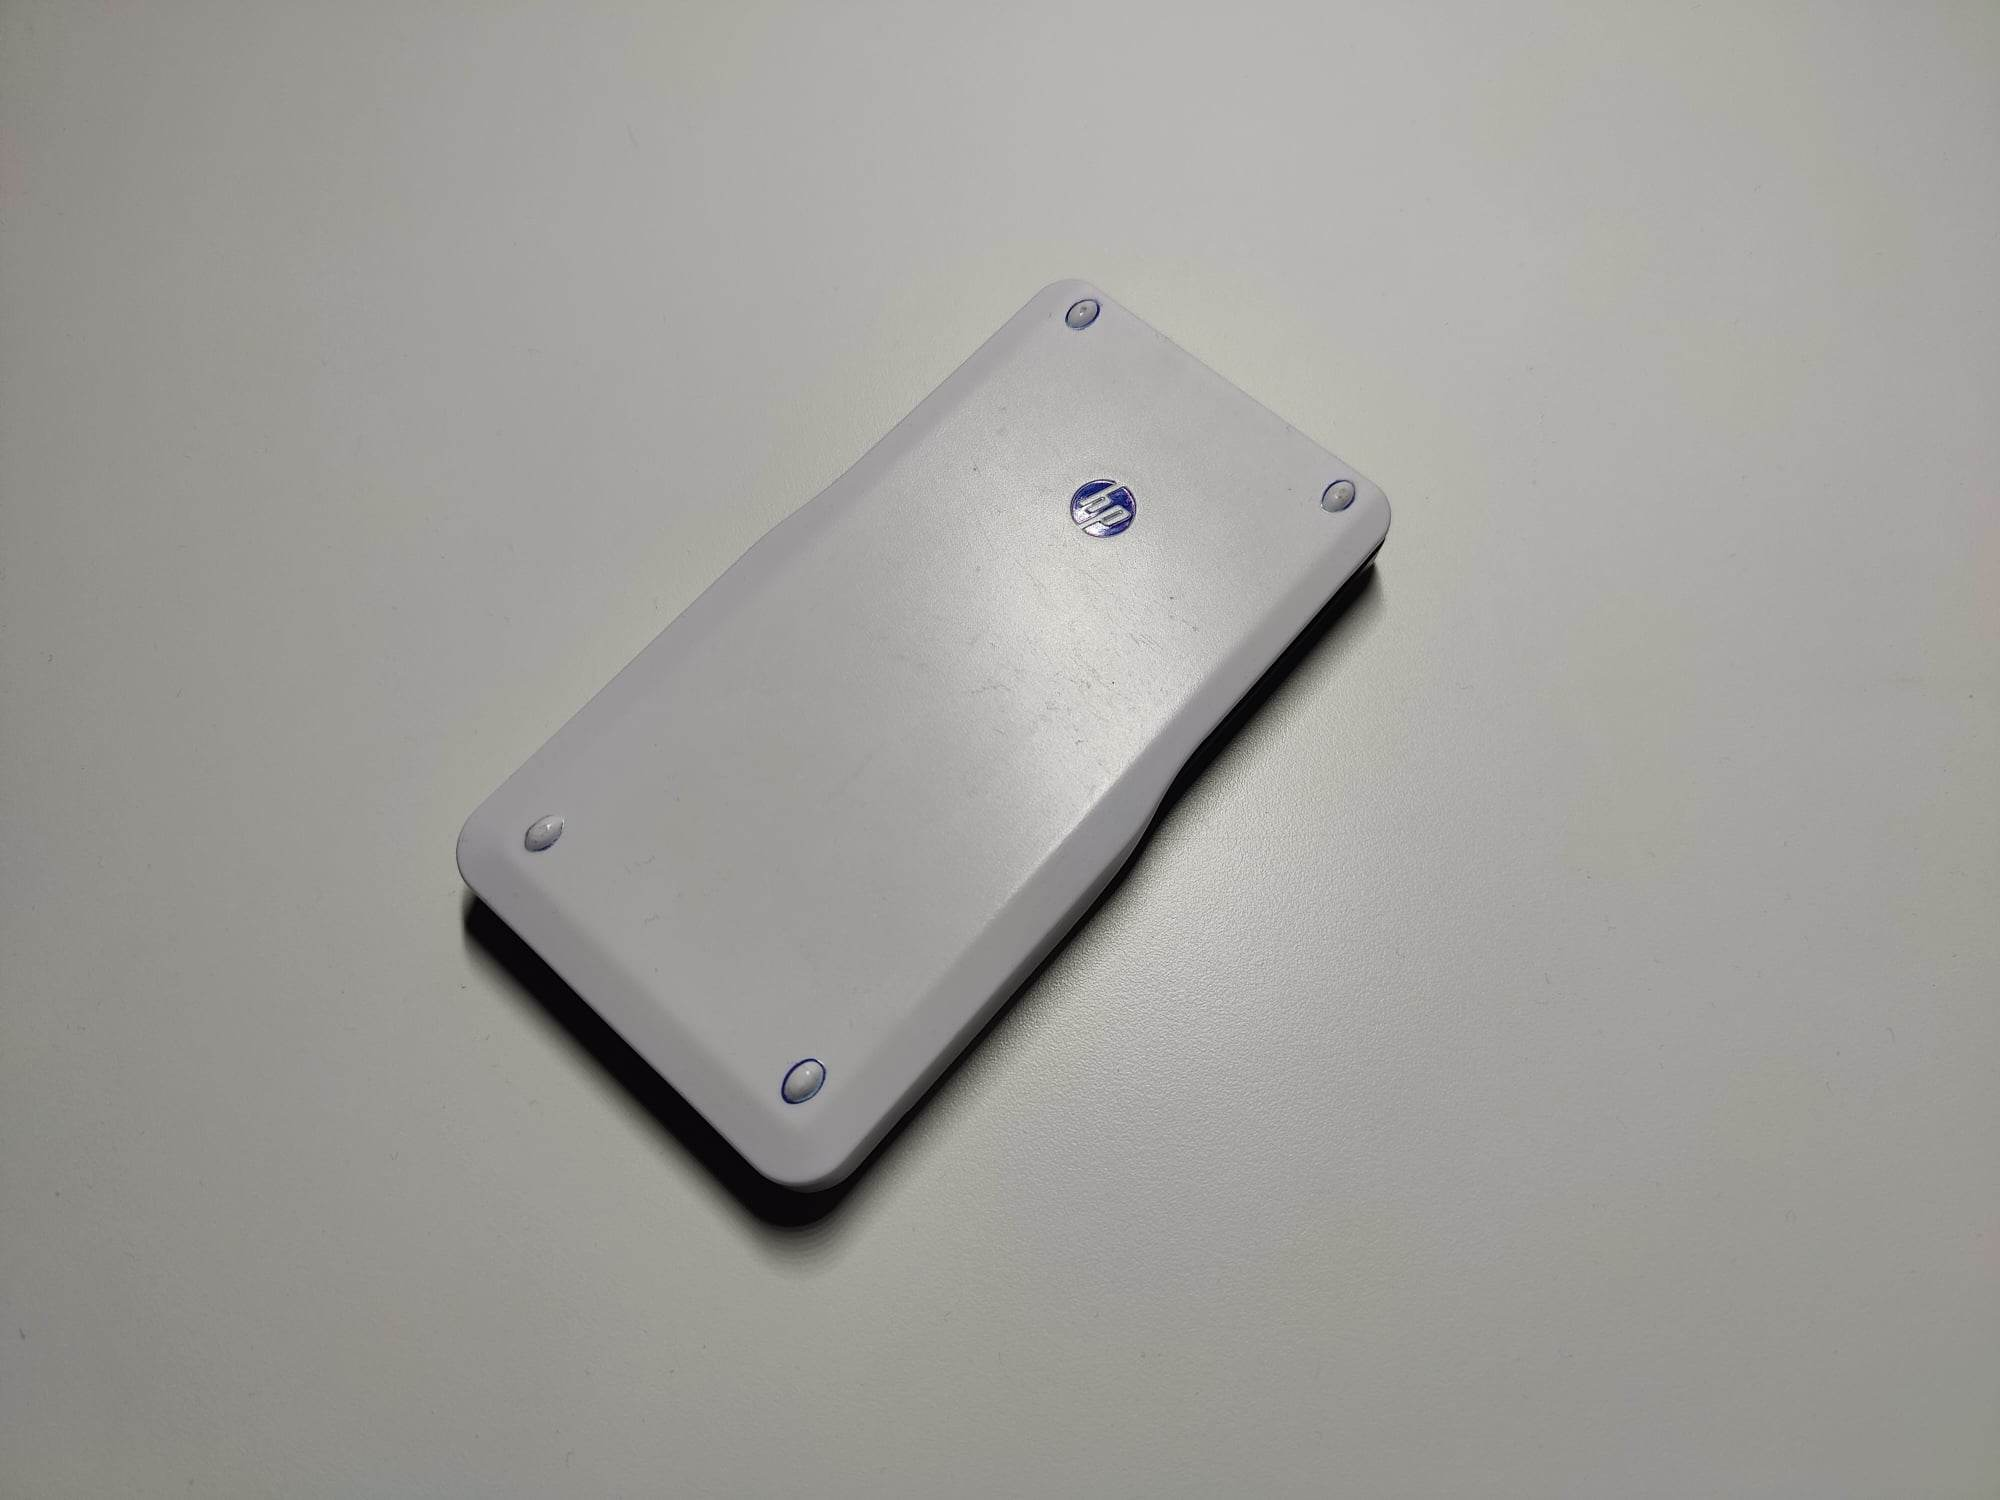Rekenmachine: (417, 243, 1438, 1227)
